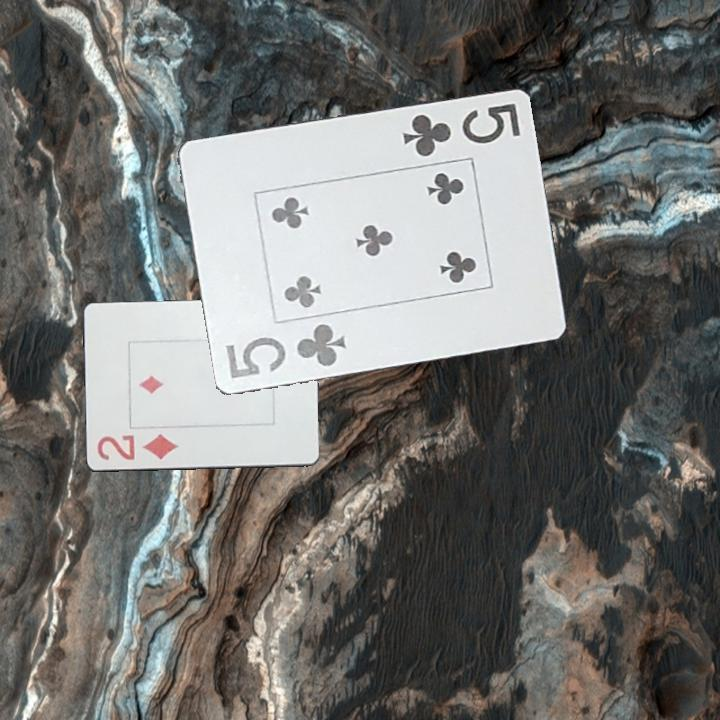2d: (93, 431, 181, 463)
5c: (222, 319, 350, 381), (399, 99, 524, 160)
